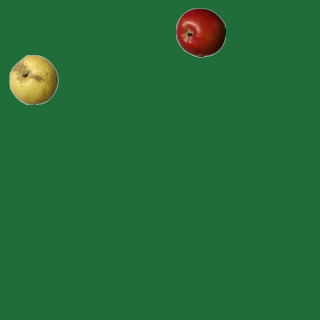Apple Braeburn: (175, 7, 225, 57)
Apple Golden 1: (8, 54, 58, 104)
